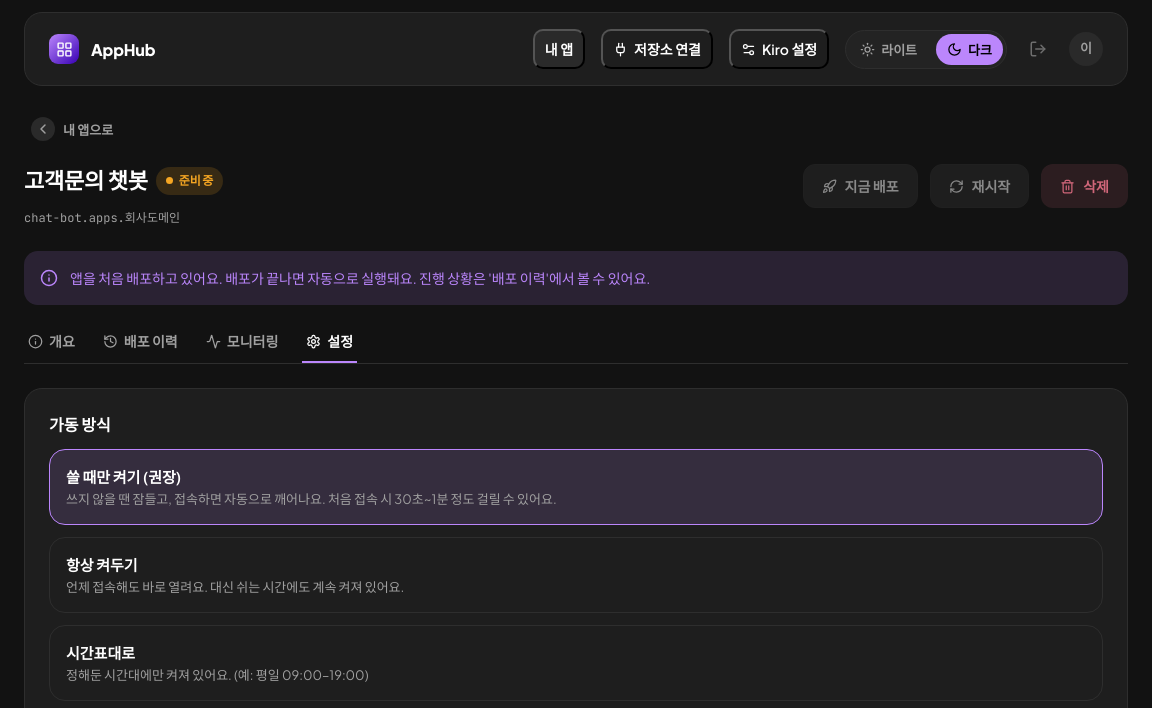
Test case: D8 비밀값 변경 시 확인 후 재배포 › 삭제 표시만 해도(값 입력 없이) 확인 모달이 뜬다
expect the heading "고객문의 챗봇 준비 중" is shown: met, box [24,164,223,197]
Step 1. Click the tab "설정" → (330, 342), box [302,321,357,363]
(page scrolled)
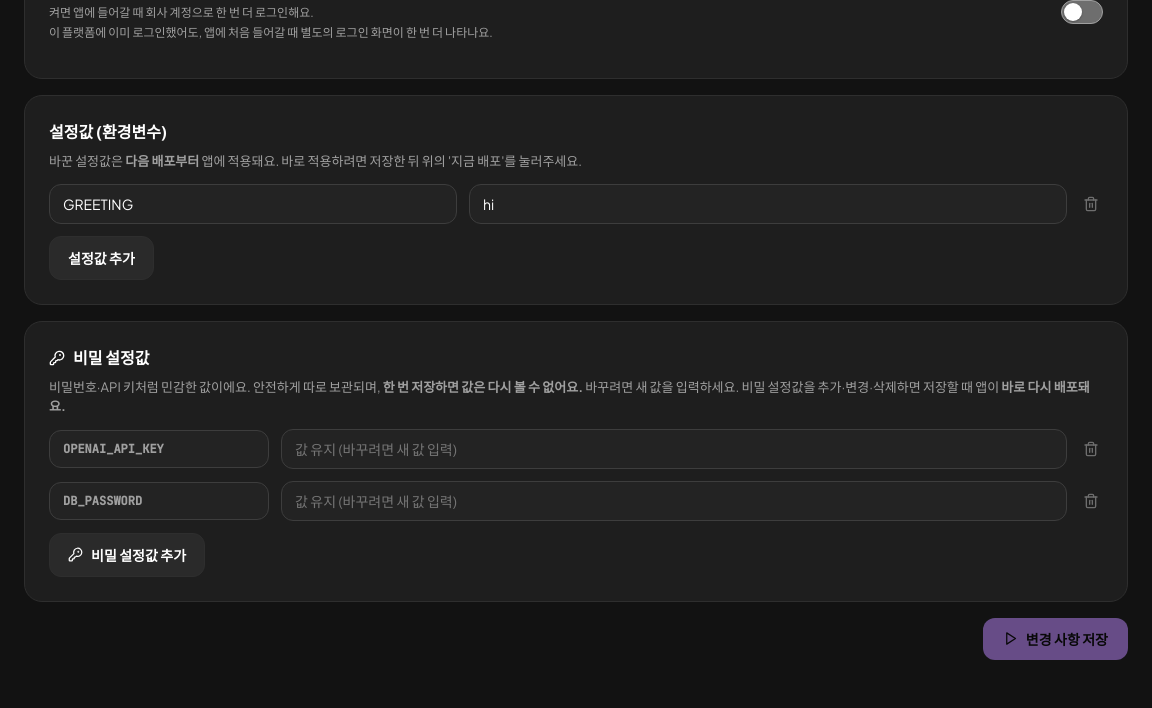
expect the heading "비밀 설정값" is shown: met, box [49,347,150,368]
Step 2. Click the button named "DB_PASSWORD 삭제" → (1091, 501), box [1079,489,1103,513]
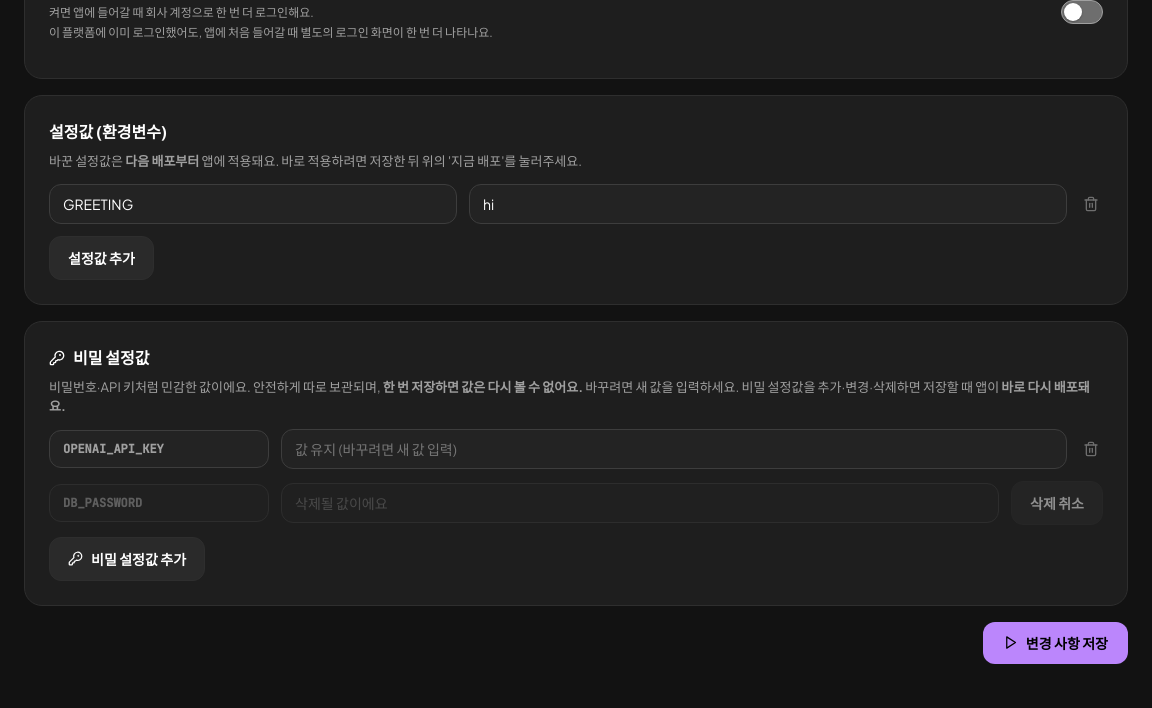
Step 3. Click the button "변경 사항 저장" → (1055, 643), box [983,622,1128,664]
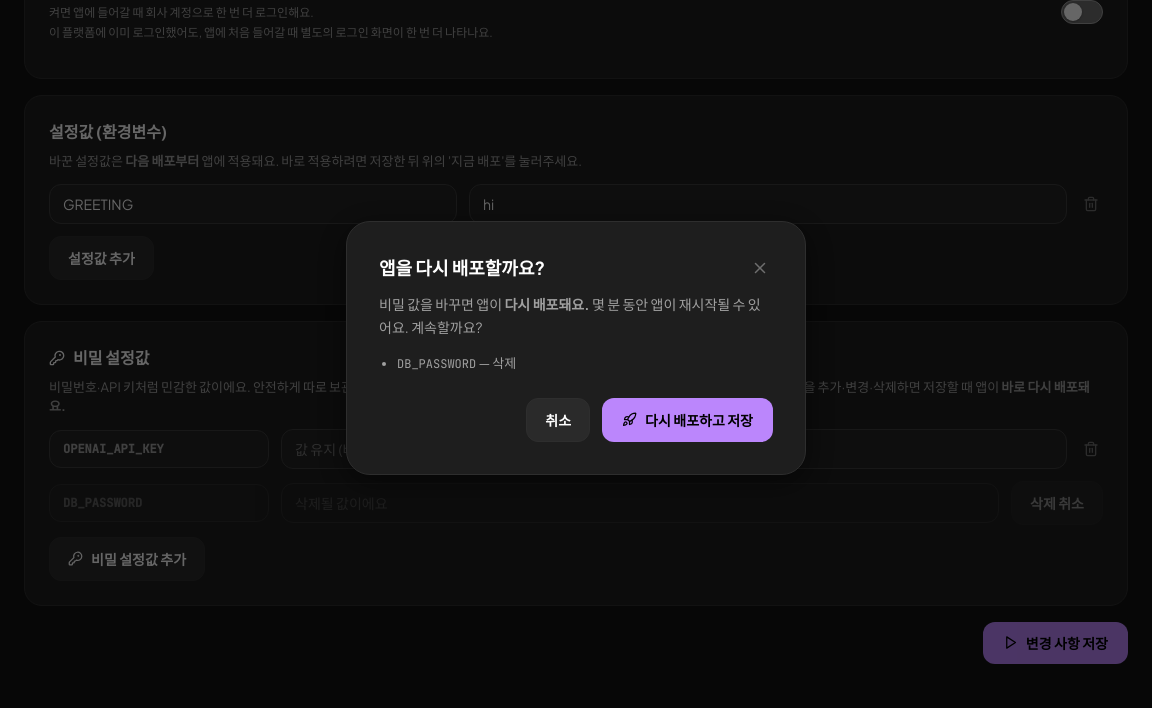
expect the dialog "앱을 다시 배포할까요?" shows "DB_PASSWORD": met, box [397,356,476,372]
expect the dialog "앱을 다시 배포할까요?" shows "삭제": met, box [476,355,516,371]
